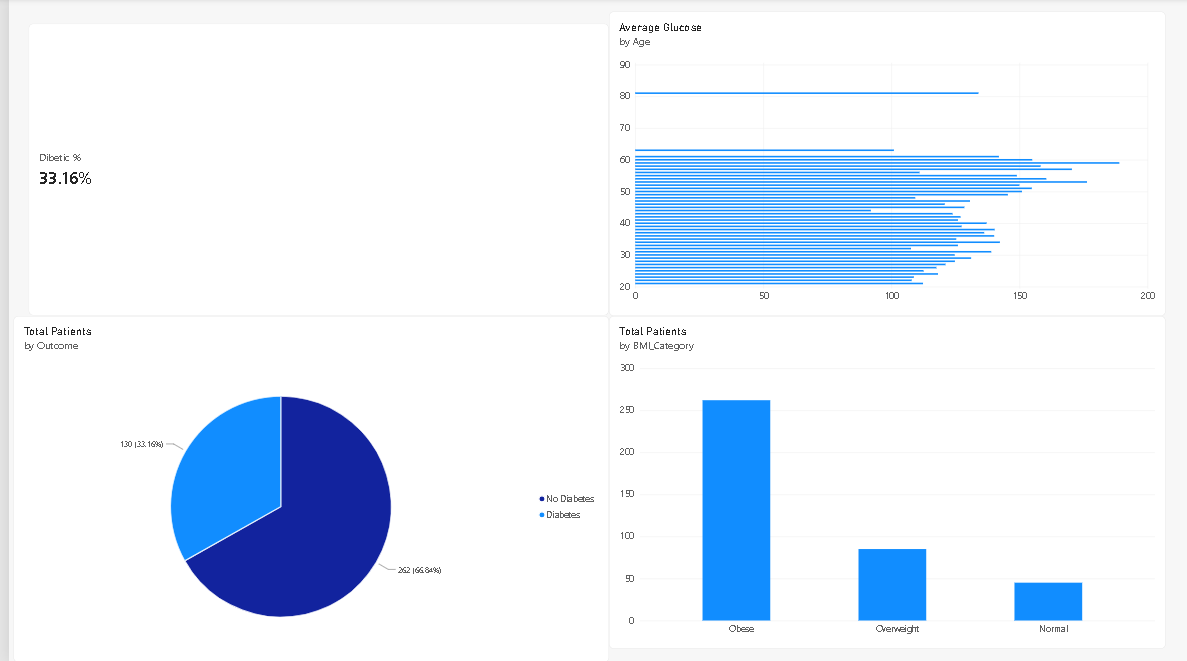

What the dashboard file says about the page in this screenshot:
{"tool":"powerbi","page":{"name":"Page 1","canvas":[1920,1080],"ordinal":0},"visuals":[{"type":"cardVisual","fields":{"Data":["diabetes.Dibetic %"]},"box":[31.7,41.5,944.2,475.8],"z":0},{"type":"pieChart","fields":{"Category":["diabetes.Outcome"],"Y":["diabetes.Total Patients"]},"box":[7.3,517.2,968.6,563.6],"z":1000},{"type":"clusteredBarChart","fields":{"Category":["diabetes.Age"],"Y":["diabetes.Average Glucose"]},"box":[975.9,22,905.2,495.3],"z":2000},{"type":"clusteredColumnChart","fields":{"Category":["diabetes.BMI_Category"],"Y":["diabetes.Total Patients"]},"box":[975.9,517.2,905.2,541.6],"z":3000}]}

Visuals, with their boxes in screenshot pixels (x1, y1, x2, y2), scaled from the page's 1920x1080 canvas onto the 1187x661 screenshot:
cardVisual - diabetes.Dibetic %: 20:25:603:317
pieChart - diabetes.Outcome x diabetes.Total Patients: 5:317:603:660
clusteredBarChart - diabetes.Age x diabetes.Average Glucose: 603:13:1163:317
clusteredColumnChart - diabetes.BMI_Category x diabetes.Total Patients: 603:317:1163:648
